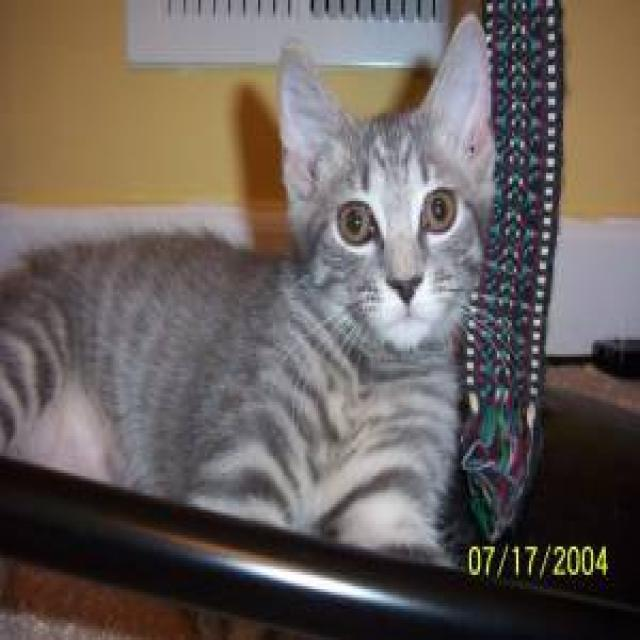Egyptian_Mau: (274, 17, 494, 357)
